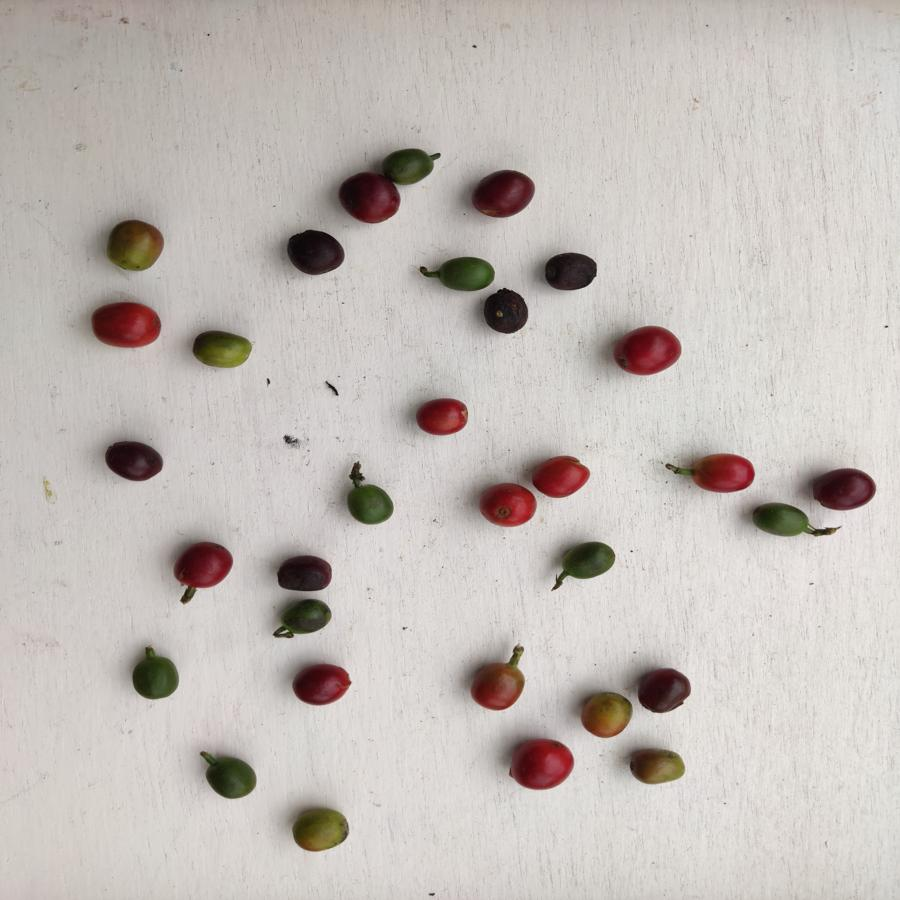Inmaduro: (341, 479, 401, 528), (749, 499, 812, 542), (129, 650, 182, 701), (198, 755, 259, 798), (558, 540, 620, 582), (438, 251, 495, 295), (275, 597, 334, 639), (384, 148, 438, 183)
Maduro: (610, 323, 688, 376), (508, 737, 576, 791), (89, 300, 162, 350), (685, 450, 757, 499), (172, 538, 234, 588), (528, 452, 589, 502), (479, 481, 537, 528), (415, 397, 470, 437)
Pinton: (191, 325, 259, 379), (105, 218, 167, 276), (576, 690, 638, 740), (290, 807, 354, 855), (467, 662, 524, 715), (627, 744, 686, 785)
Sobremaduro: (471, 167, 536, 217), (810, 467, 876, 515), (284, 227, 345, 275), (288, 664, 355, 706), (334, 172, 384, 225), (634, 668, 692, 713), (105, 441, 164, 483), (543, 252, 599, 290), (276, 555, 333, 592), (485, 289, 530, 334)
